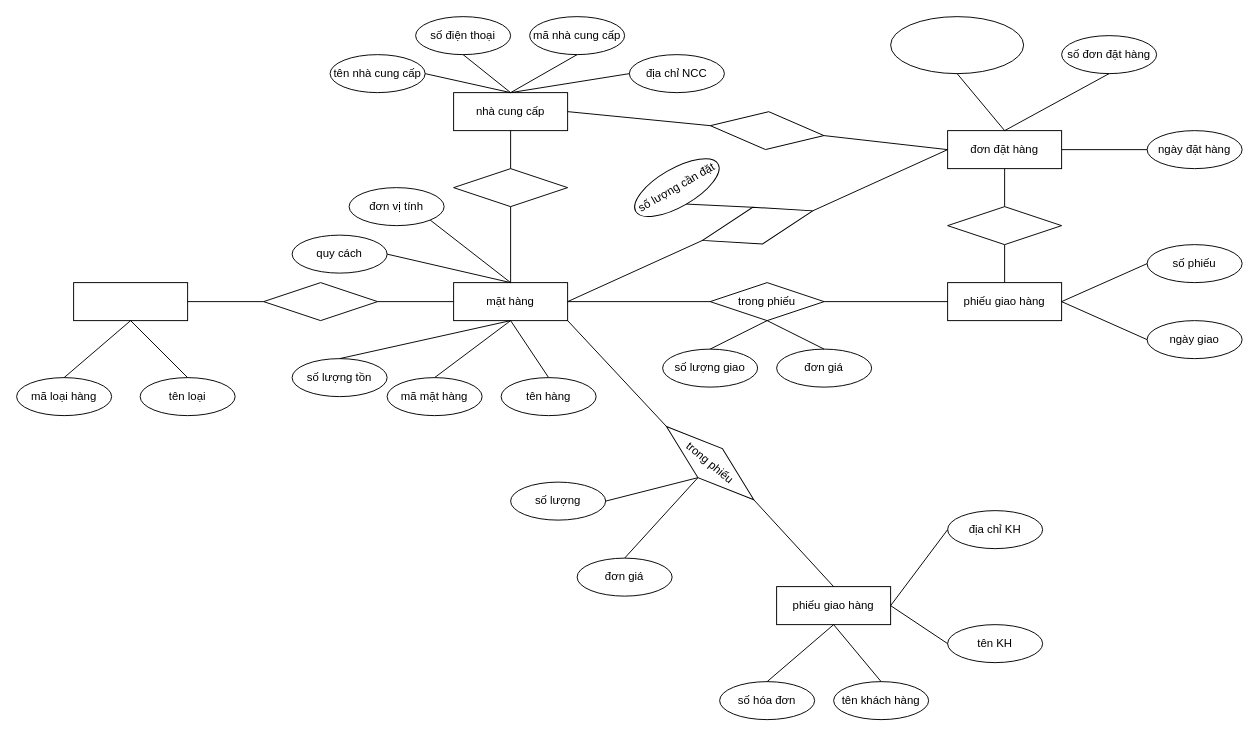
Some shapes in this 1259 by 736 pixel diagram are drawn without their labels. Here are the shapes that lost their labels. From the top down, the box of each, then its label:
(890, 16, 1024, 74): tổng số mặt hàng cần đặt
(708, 106, 826, 155): đặt từ
(453, 168, 568, 207): cung ứng
(697, 191, 818, 259): trong đơn
(947, 206, 1062, 245): giao
(73, 282, 188, 321): loại hàng
(263, 282, 378, 321): thuộc
